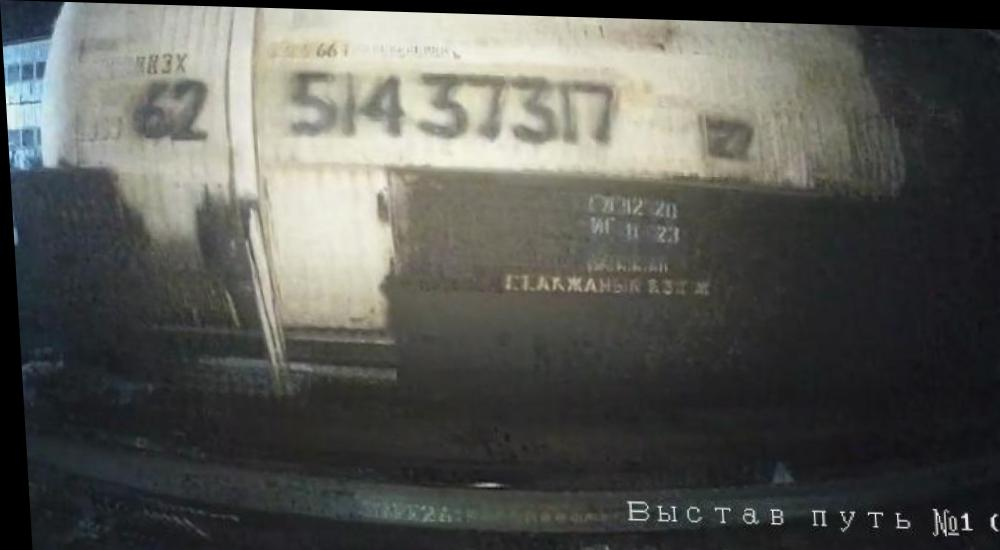Wagon-number: (279, 61, 624, 153)
